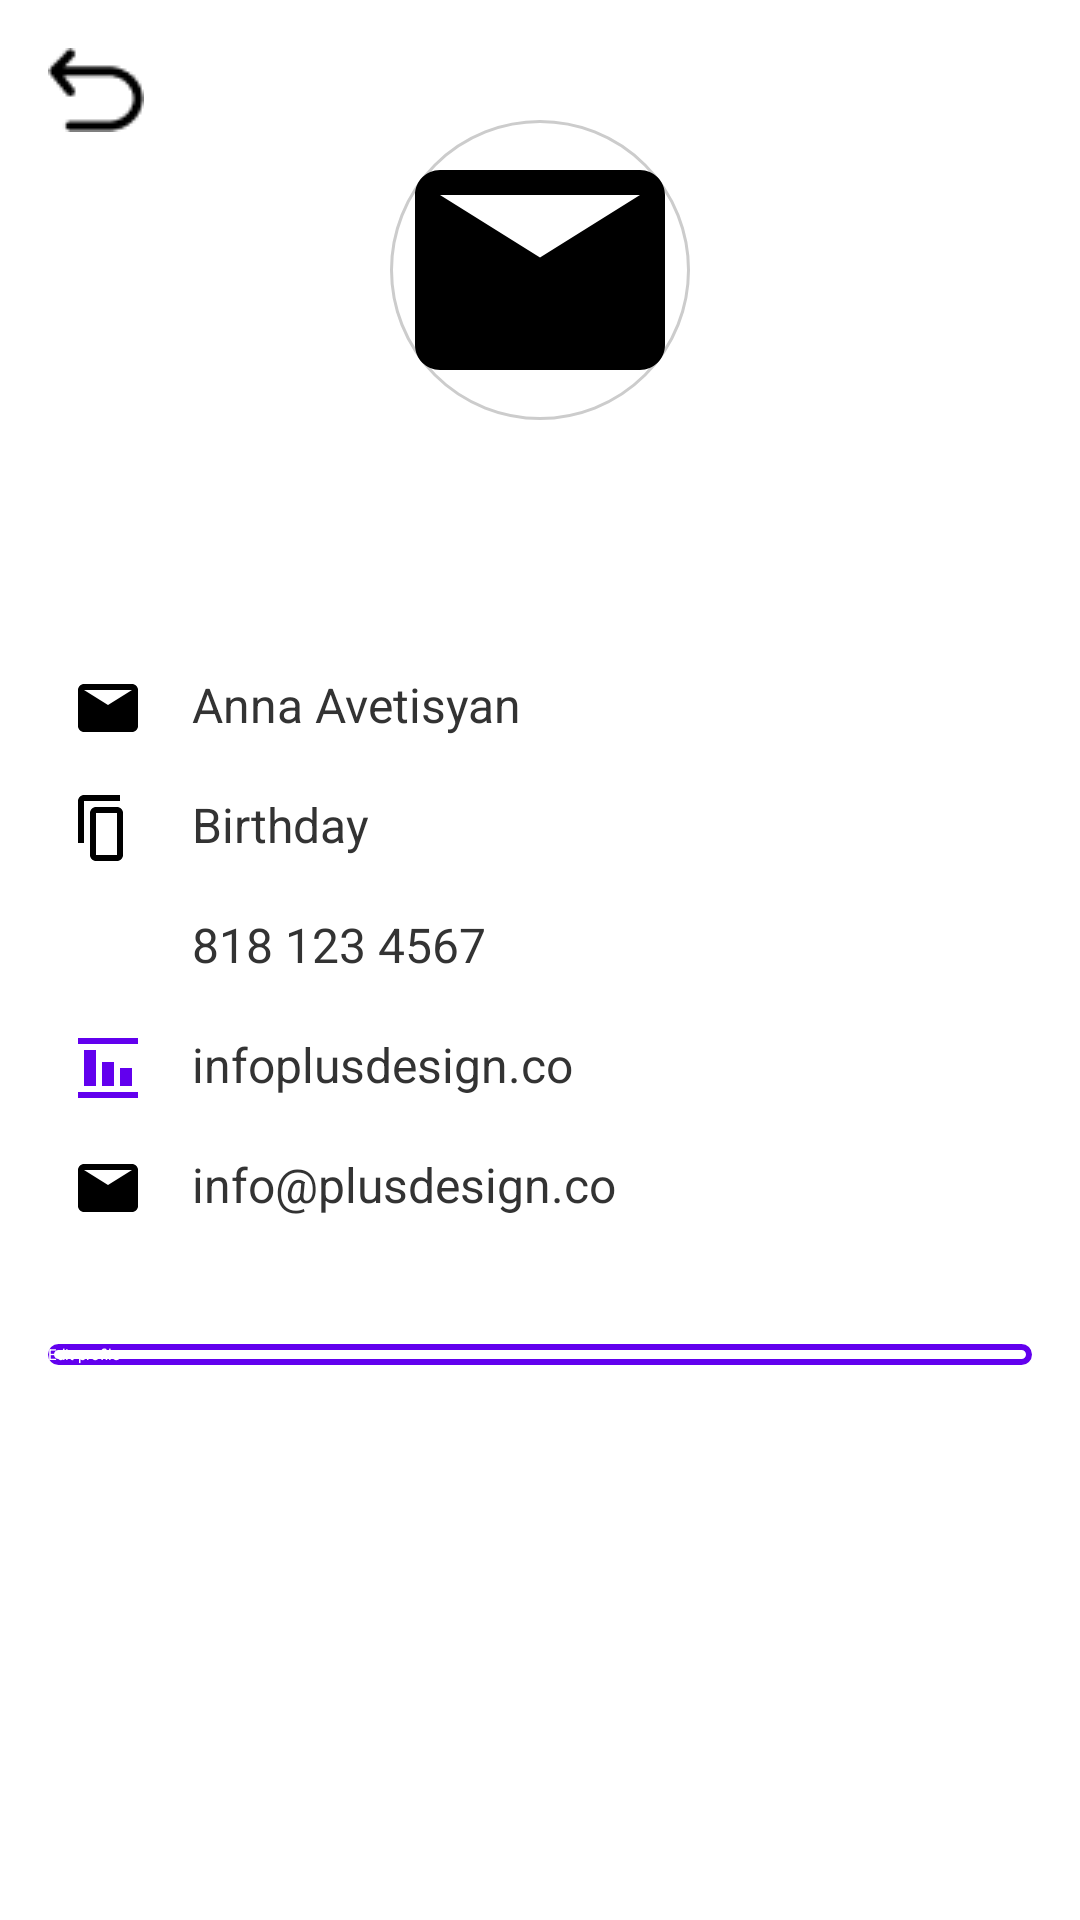

Where to tap for icons on this 1080px x 1920px app screen, as (x=x, y=y):
Back: (x=96, y=90)
Email: (x=108, y=1188)
